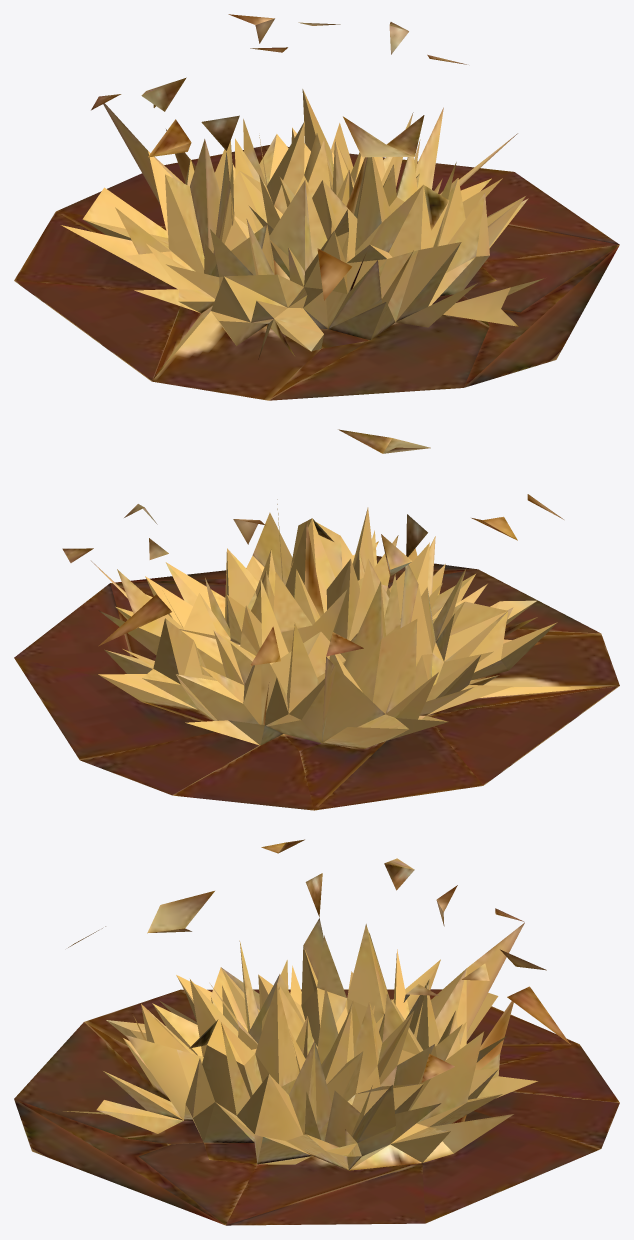
Rendered from flowers.glb.
3 views of the same model, one above another, from view 1: azimuth 30°, elevation 25°; view 2: azimuth 150°, elevation 25°; view 3: azimuth 270°, elevation 25° (orthographic).
Bounding box in the file's own units: 1.75 × 0.7339 × 1.9.
Materials: 1 (1 with a texture image).
